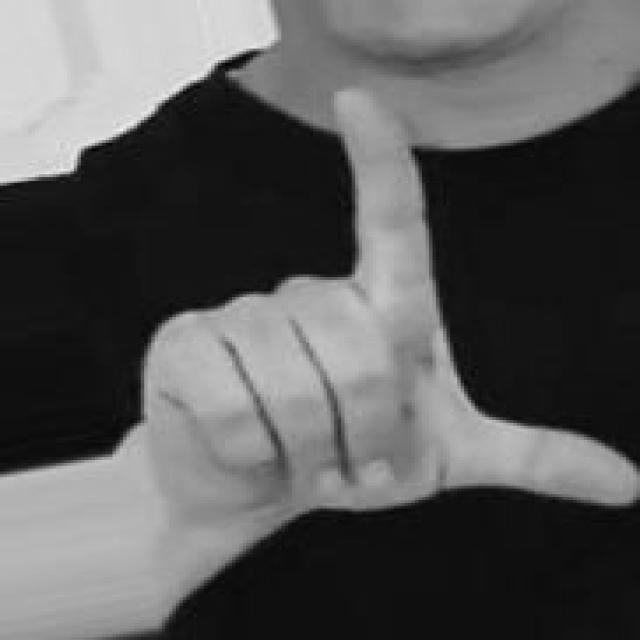L: (133, 88, 640, 551)
